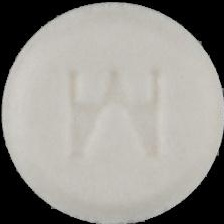51079-759: (0, 0, 224, 224)
